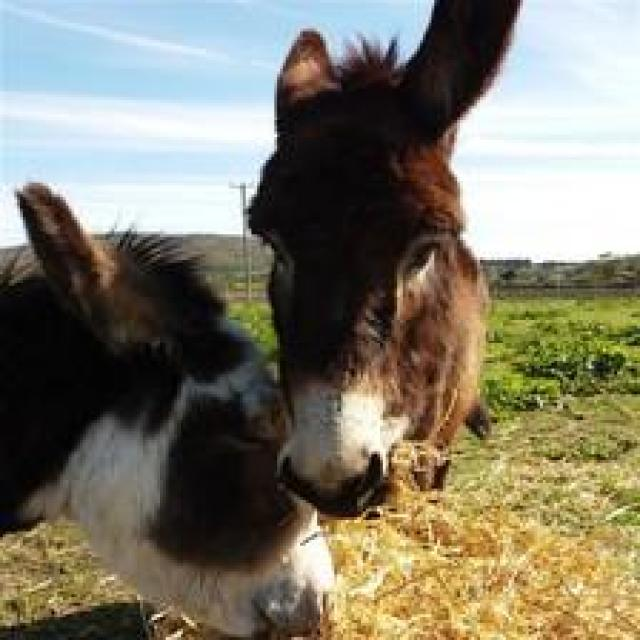Donkey: (0, 0, 526, 637), (0, 177, 337, 637), (243, 0, 526, 517)
